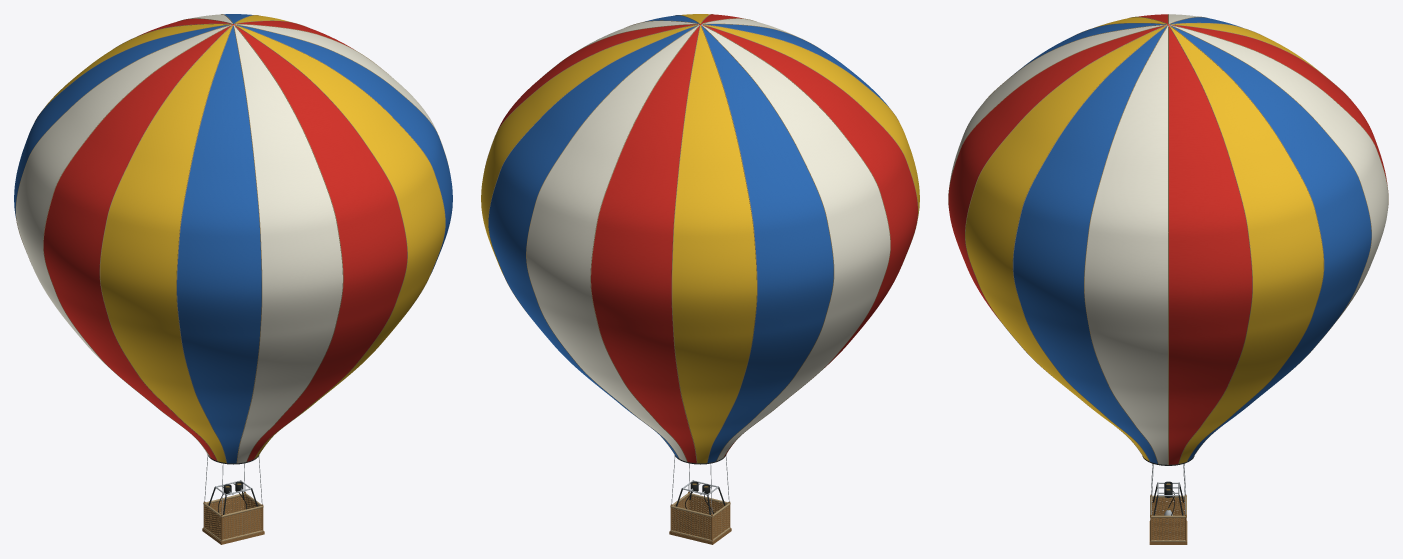
Rendered from hot-air-balloon.glb.
The picture shows the model from 3 angles, left to right: view 1: azimuth 30°, elevation 25°; view 2: azimuth 150°, elevation 25°; view 3: azimuth 270°, elevation 25°; orthographic projection.
Parts seen in each view (by area): view 1: Finite shaped envelope gore 11, Finite shaped envelope gore 12, Finite shaped envelope gore 10, Finite shaped envelope gore 13, Finite shaped envelope gore 9, Finite shaped envelope gore 14, Finite shaped envelope gore 8, Finite shaped envelope gore 15, Finite shaped envelope gore 7, Finite shaped envelope gore 16, Finite shaped envelope gore 6, Continuous seated envelope load tape 12 (+5 smaller); view 2: Finite shaped envelope gore 6, Finite shaped envelope gore 5, Finite shaped envelope gore 7, Finite shaped envelope gore 4, Finite shaped envelope gore 8, Finite shaped envelope gore 3, Finite shaped envelope gore 9, Finite shaped envelope gore 2, Finite shaped envelope gore 10, Finite shaped envelope gore 1, Finite shaped envelope gore 11, Continuous seated envelope load tape 6 (+5 smaller); view 3: Finite shaped envelope gore 1, Finite shaped envelope gore 16, Finite shaped envelope gore 2, Finite shaped envelope gore 15, Finite shaped envelope gore 3, Finite shaped envelope gore 14, Finite shaped envelope gore 4, Finite shaped envelope gore 13, Finite shaped envelope gore 5, Finite shaped envelope gore 12, Finite shaped envelope gore 6, Finite shaped envelope gore 11 (+4 smaller).
Boxes of the visible parts, x1,y1,x2,y2 form: Finite shaped envelope gore 11: [177, 25, 261, 463]; Finite shaped envelope gore 12: [233, 25, 342, 463]; Finite shaped envelope gore 10: [100, 25, 232, 462]; Finite shaped envelope gore 13: [234, 25, 407, 461]; Finite shaped envelope gore 9: [43, 25, 232, 460]; Finite shaped envelope gore 14: [234, 24, 445, 458]; Finite shaped envelope gore 8: [16, 24, 232, 456]; Finite shaped envelope gore 15: [235, 24, 452, 273]; Finite shaped envelope gore 7: [14, 24, 231, 217]; Finite shaped envelope gore 16: [235, 24, 436, 130]; Finite shaped envelope gore 6: [45, 24, 231, 106]; Continuous seated envelope load tape 12: [233, 26, 262, 463]; Finite shaped envelope gore 6: [672, 25, 756, 463]; Finite shaped envelope gore 5: [591, 25, 700, 463]; Finite shaped envelope gore 7: [701, 25, 833, 462]; Finite shaped envelope gore 4: [526, 25, 699, 461]; Finite shaped envelope gore 8: [701, 25, 890, 460]; Finite shaped envelope gore 3: [488, 24, 699, 458]; Finite shaped envelope gore 9: [701, 24, 917, 456]; Finite shaped envelope gore 2: [481, 24, 698, 273]; Finite shaped envelope gore 10: [702, 24, 919, 217]; Finite shaped envelope gore 1: [497, 24, 698, 130]; Finite shaped envelope gore 11: [702, 24, 888, 106]; Continuous seated envelope load tape 6: [671, 26, 700, 463]; Finite shaped envelope gore 1: [1168, 25, 1252, 464]; Finite shaped envelope gore 16: [1084, 25, 1168, 464]; Finite shaped envelope gore 2: [1169, 25, 1323, 463]; Finite shaped envelope gore 15: [1013, 25, 1167, 463]; Finite shaped envelope gore 3: [1169, 25, 1371, 460]; Finite shaped envelope gore 14: [965, 25, 1167, 460]; Finite shaped envelope gore 4: [1170, 25, 1388, 320]; Finite shaped envelope gore 13: [948, 25, 1166, 320]; Finite shaped envelope gore 5: [1170, 25, 1387, 183]; Finite shaped envelope gore 12: [949, 25, 1166, 183]; Finite shaped envelope gore 6: [1170, 23, 1329, 79]; Finite shaped envelope gore 11: [1007, 23, 1166, 79].
Bounding box in the file's own units: 18.02 × 23.02 × 18.02.
Materials: 11 (11 with a texture image).
